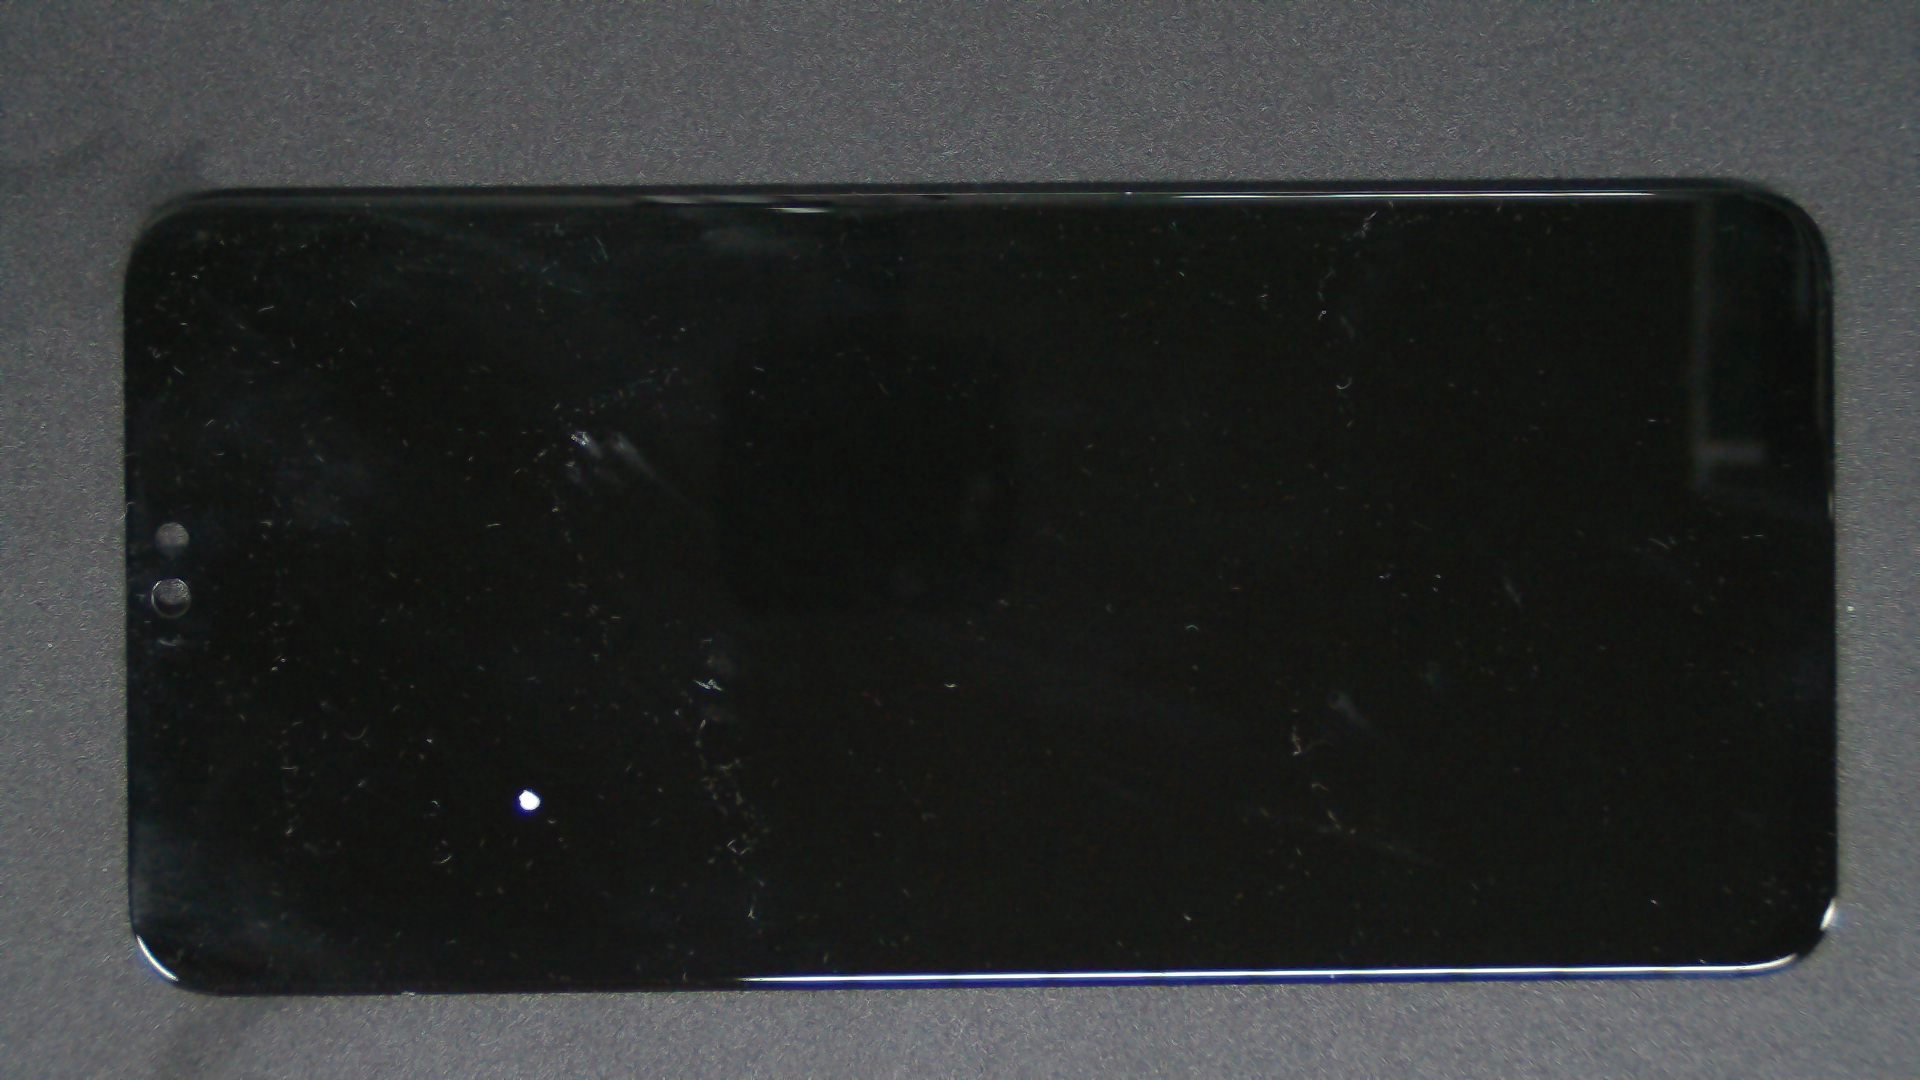oil: (264, 393, 790, 1080), (289, 215, 861, 647)
